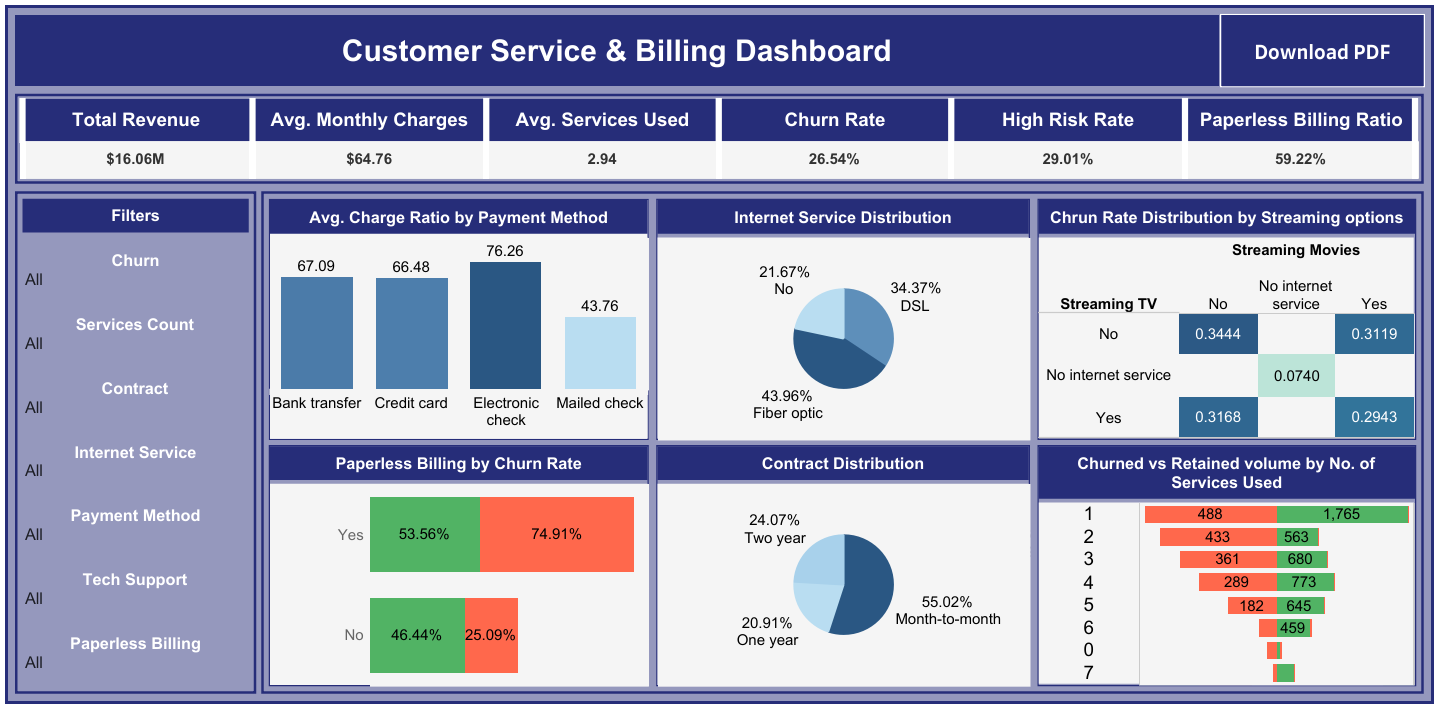

The page's visual inventory and layout, read from the dashboard file:
{"tool":"tableau","page":{"name":"Customer Service & Billing Dashboard","canvas":[1000,1000],"units":"permille","ordinal":1},"visuals":[{"type":"text","box":[6.6,12.9,887.8,69.3]},{"type":"dashboard-object","box":[894.4,12.9,99,69.3]},{"type":"worksheet","title":"Services and Billing KPIs","mark":"Automatic","box":[3.6,88.1,992.8,84.6]},{"type":"worksheet","title":"Service and Billing Filters","mark":"Automatic","box":[8.4,182.1,114,48.2]},{"type":"worksheet","title":"Avg. Charge Ratio by Payment Method","mark":"Automatic","rows":["ChargeRatio"],"cols":["PaymentMethod"],"box":[128.6,184.5,287.3,398.4]},{"type":"worksheet","title":"Internet Service Distribution","mark":"Pie","box":[415.8,184.5,287.3,398.4]},{"type":"worksheet","title":"Chrun Rate Distribution by Streaming options","mark":"Square","rows":["StreamingTV"],"cols":["StreamingMovies"],"box":[703.1,184.5,287.3,398.4]},{"type":"filter","title":"Service and Billing Filters","param":"[federated.0yk2zxe06brdsj1cgydwg0hetu3l].[none:Calculation_1014717340783988736:n","box":[8.4,230.3,114,72.9]},{"type":"filter","title":"Service and Billing Filters","param":"[federated.0yk2zxe06brdsj1cgydwg0hetu3l].[none:ServicesCount:ok]","box":[8.4,303.2,114,76.4]},{"type":"filter","title":"Service and Billing Filters","param":"[federated.0yk2zxe06brdsj1cgydwg0hetu3l].[none:Contract:nk]","box":[8.4,379.6,114,77.6]},{"type":"filter","title":"Service and Billing Filters","param":"[federated.0yk2zxe06brdsj1cgydwg0hetu3l].[none:InternetService:nk]","box":[8.4,457.1,114,74]},{"type":"filter","title":"Service and Billing Filters","param":"[federated.0yk2zxe06brdsj1cgydwg0hetu3l].[none:PaymentMethod:nk]","box":[8.4,531.1,114,76.4]},{"type":"worksheet","title":"Paperless Billing Adoption by TechSupport Status","mark":"Automatic","rows":["TechSupport"],"box":[128.6,582.8,287.3,398.4]},{"type":"worksheet","title":"Contract Distribution","mark":"Pie","box":[415.8,582.8,287.3,398.4]},{"type":"worksheet","title":"Churned vs Retained volume by No. of Services Used","mark":"Automatic","rows":["ServicesCount"],"cols":["Calculation_1414411805475524609","Calculation_1186698551791075328"],"box":[703.1,582.8,287.3,398.4]},{"type":"filter","title":"Service and Billing Filters","param":"[federated.0yk2zxe06brdsj1cgydwg0hetu3l].[none:TechSupport:nk]","box":[8.4,607.5,114,82.3]},{"type":"filter","title":"Service and Billing Filters","param":"[federated.0yk2zxe06brdsj1cgydwg0hetu3l].[none:PaperlessBilling:nk]","box":[8.4,689.8,114,69.3]}]}

Visuals, with their boxes on the dashboard's canvas, which has no fixed pixel size, in thousandths of its width and height (x1, y1, x2, y2). These are canvas units, not pixel positions in the 1438x708 screenshot, which may show the page scaled, cropped or inside an application window:
text: <region>7, 13, 894, 82</region>
dashboard-object: <region>894, 13, 993, 82</region>
"Services and Billing KPIs" worksheet: <region>4, 88, 996, 173</region>
"Service and Billing Filters" worksheet: <region>8, 182, 122, 230</region>
"Avg. Charge Ratio by Payment Method" worksheet: <region>129, 184, 416, 583</region>
"Internet Service Distribution" worksheet (Pie marks): <region>416, 184, 703, 583</region>
"Chrun Rate Distribution by Streaming options" worksheet (Square marks): <region>703, 184, 990, 583</region>
"Service and Billing Filters" filter: <region>8, 230, 122, 303</region>
"Service and Billing Filters" filter: <region>8, 303, 122, 380</region>
"Service and Billing Filters" filter: <region>8, 380, 122, 457</region>
"Service and Billing Filters" filter: <region>8, 457, 122, 531</region>
"Service and Billing Filters" filter: <region>8, 531, 122, 608</region>
"Paperless Billing Adoption by TechSupport Status" worksheet: <region>129, 583, 416, 981</region>
"Contract Distribution" worksheet (Pie marks): <region>416, 583, 703, 981</region>
"Churned vs Retained volume by No. of Services Used" worksheet: <region>703, 583, 990, 981</region>
"Service and Billing Filters" filter: <region>8, 608, 122, 690</region>
"Service and Billing Filters" filter: <region>8, 690, 122, 759</region>
